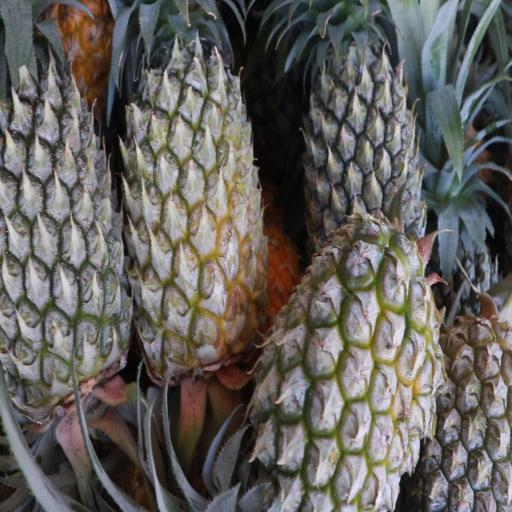------------------------------: (255, 234, 435, 508), (123, 7, 258, 362)
